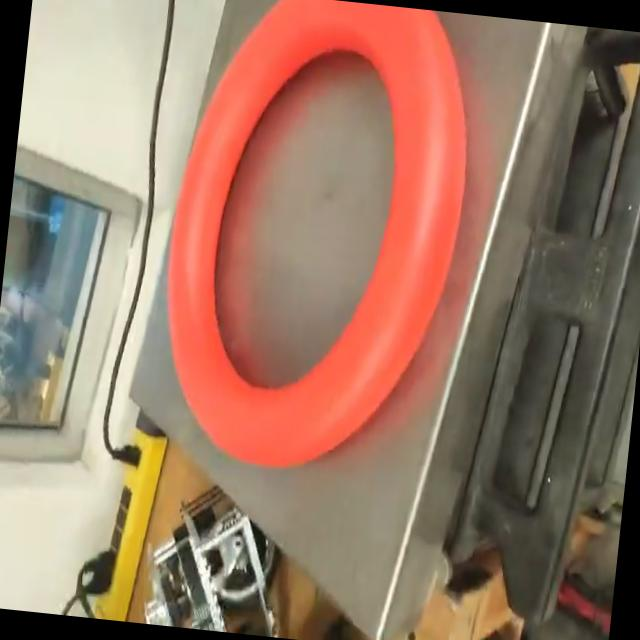note: (142, 0, 491, 487)
